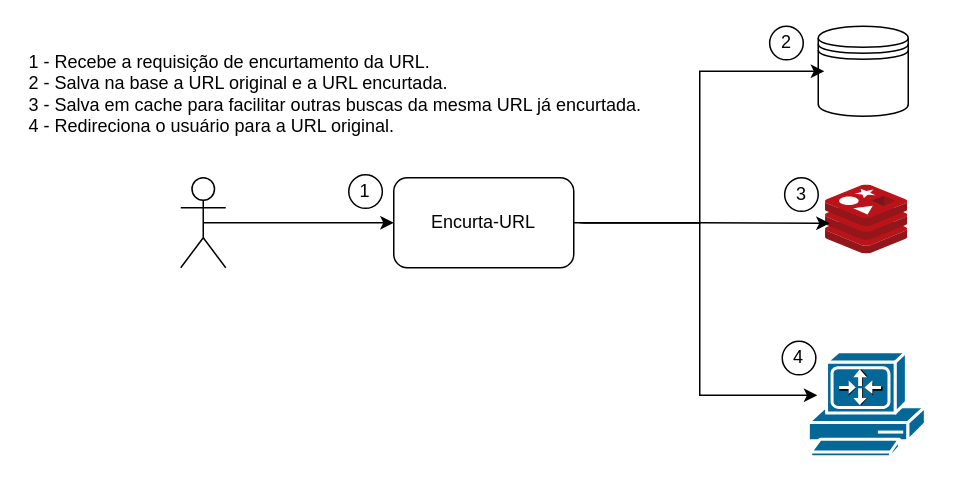
The diagram is 953 pixels wide and 485 high, and some of its shapes have lost their labels. The shapes that lost their labels are listed below. From the top down, each one's box as (x1, y1, x2, y2) in pixels, then its label:
(817, 25, 908, 116): Banco de Dados
(179, 176, 226, 268): Usuário
